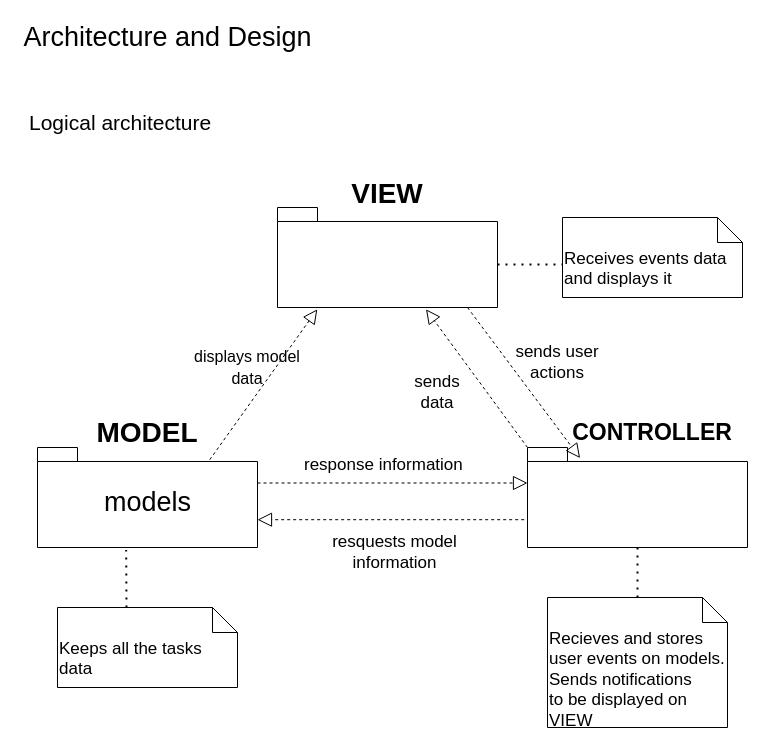
Some shapes in this 765 by 748 pixel diagram are drawn without their labels. Here are the shapes that lost their labels. From the top down, the box of each, then its label:
(276, 206, 498, 308): WIDGETS
(526, 446, 748, 548): screens
